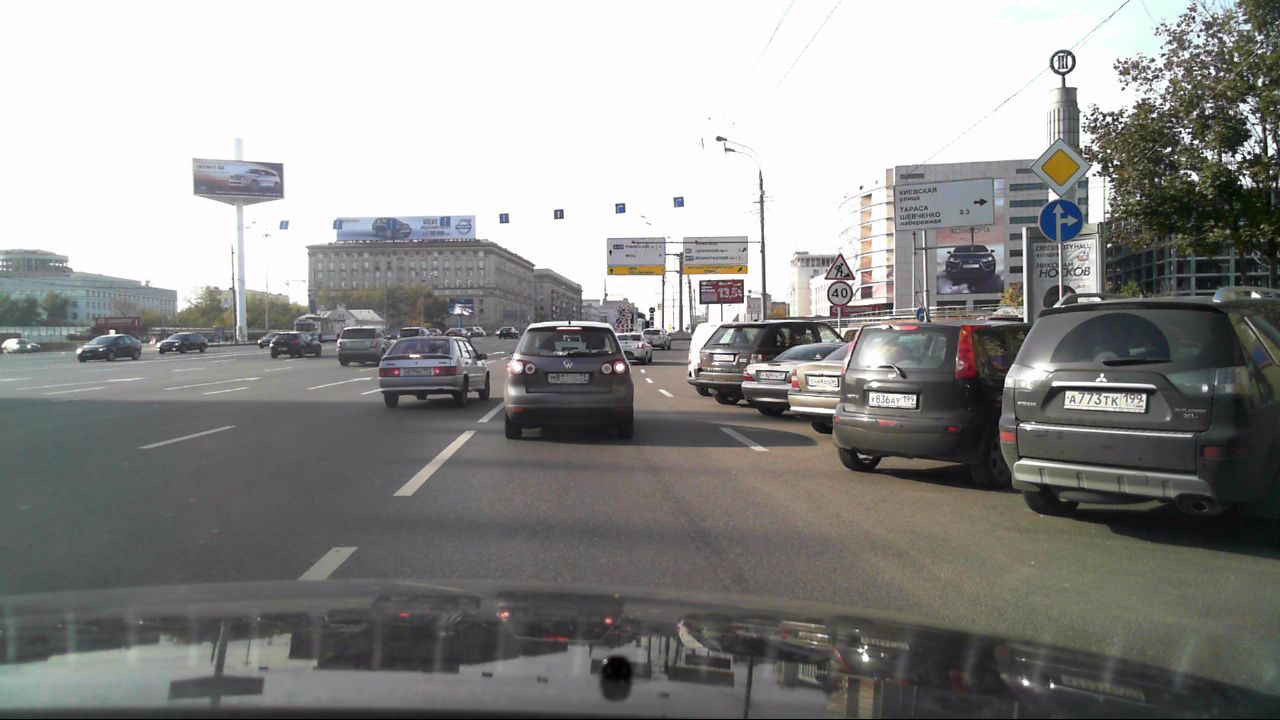speed_warning_40: (825, 281, 854, 309)
